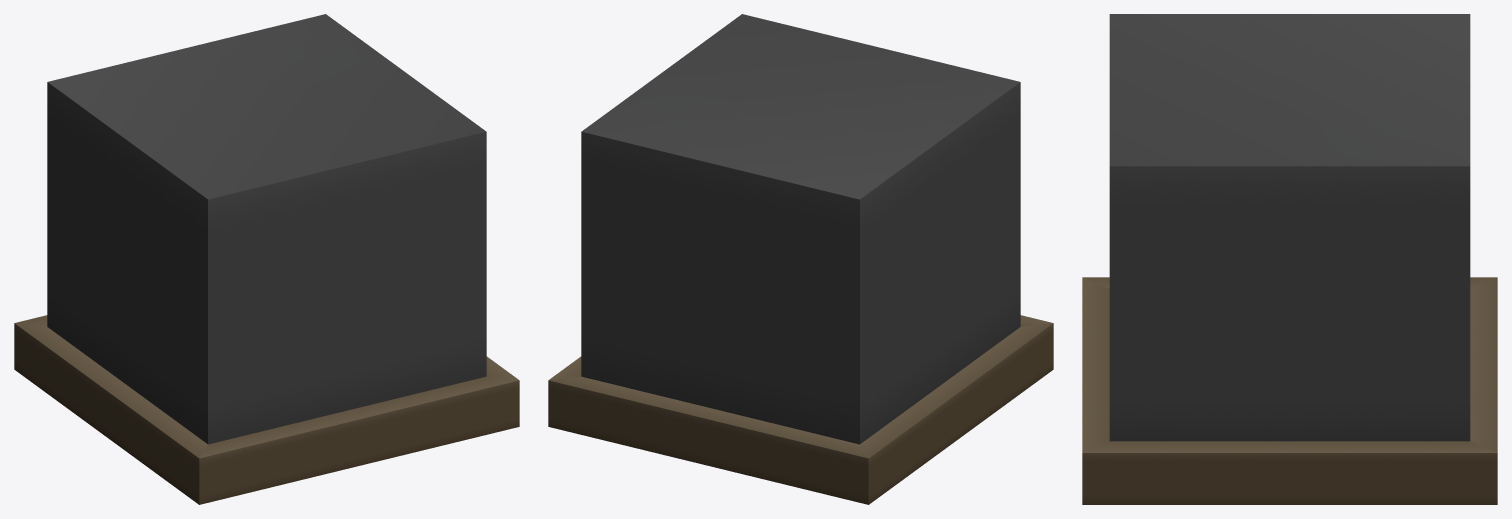
3 renders of one model, left to right at view 1: azimuth 30°, elevation 25°; view 2: azimuth 150°, elevation 25°; view 3: azimuth 270°, elevation 25°, orthographic. The views are drawn at different scales.
Visible parts, largest first — view 1: Base_1X1; view 2: Base_1X1; view 3: Base_1X1.
Part boxes in pixels (bbox=[...]): Base_1X1: bbox=[14, 14, 519, 504]; Base_1X1: bbox=[548, 14, 1053, 504]; Base_1X1: bbox=[1082, 14, 1497, 504].
Size of the model in its own units: 86.04 by 74.79 by 86.04.
